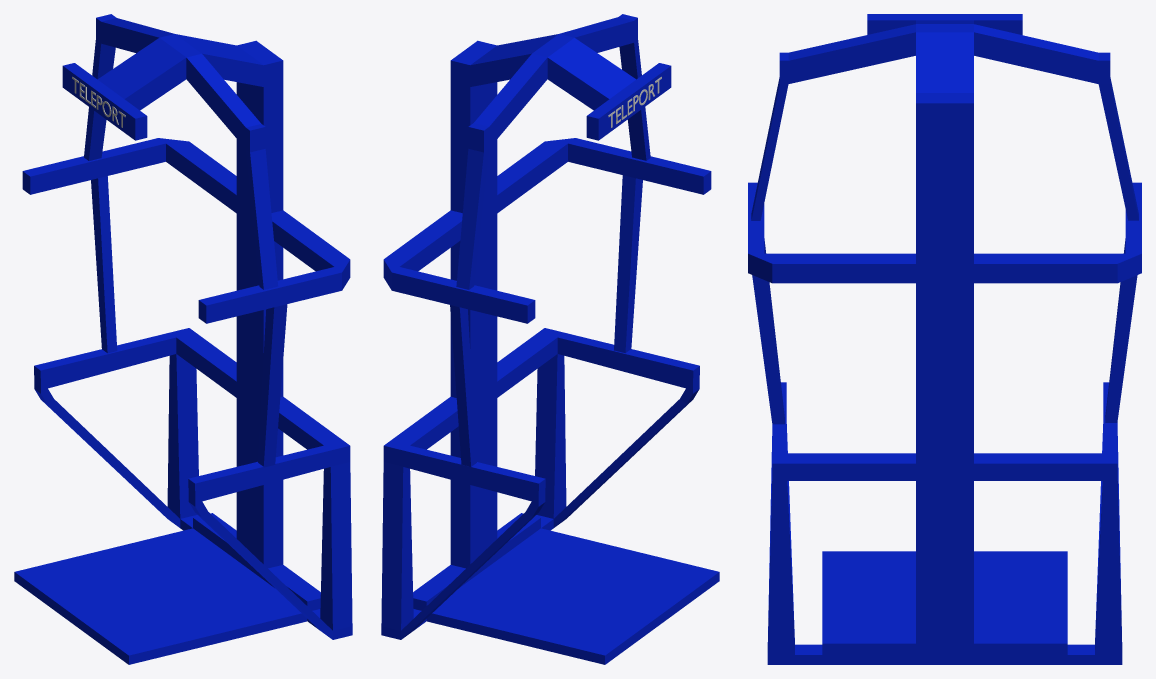
File: teleport.fbx
The picture shows the model from 3 angles, left to right: view 1: azimuth 30°, elevation 25°; view 2: azimuth 150°, elevation 25°; view 3: azimuth 270°, elevation 25°; orthographic projection. The views are drawn at different scales.
Visible parts, largest first — view 1: Teleport; view 2: Teleport; view 3: Teleport.
Part boxes in pixels (x1=…): Teleport: x1=14, y1=14, x2=352, y2=664; Teleport: x1=381, y1=14, x2=719, y2=664; Teleport: x1=748, y1=14, x2=1141, y2=664.
Size of the model in its own units: 101 by 269 by 163.
